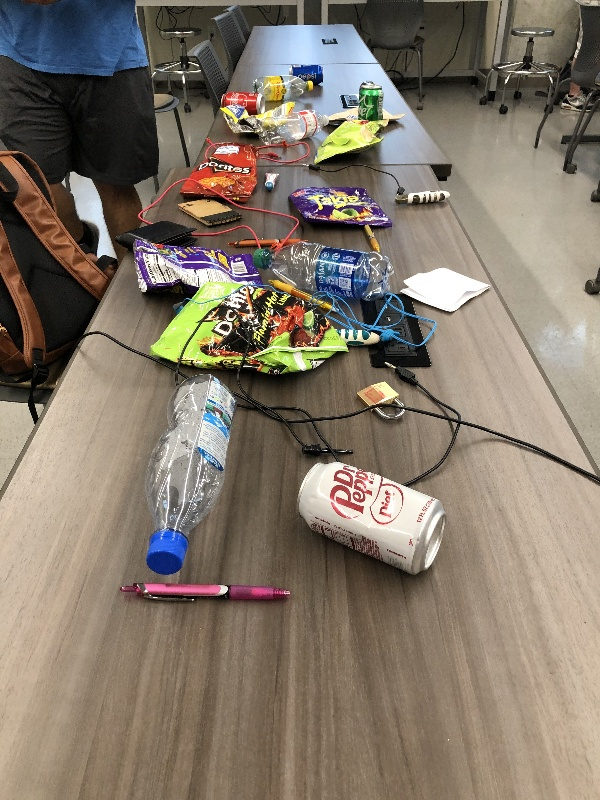bag: (148, 280, 354, 383), (128, 230, 264, 300), (173, 140, 265, 204), (284, 182, 397, 233), (307, 117, 392, 171), (219, 100, 300, 135), (323, 105, 410, 128)
bottle: (137, 373, 246, 582), (248, 240, 396, 299), (262, 107, 333, 150), (250, 75, 320, 104)
can: (286, 456, 453, 582), (350, 79, 388, 123), (215, 90, 268, 110), (287, 62, 329, 84)
